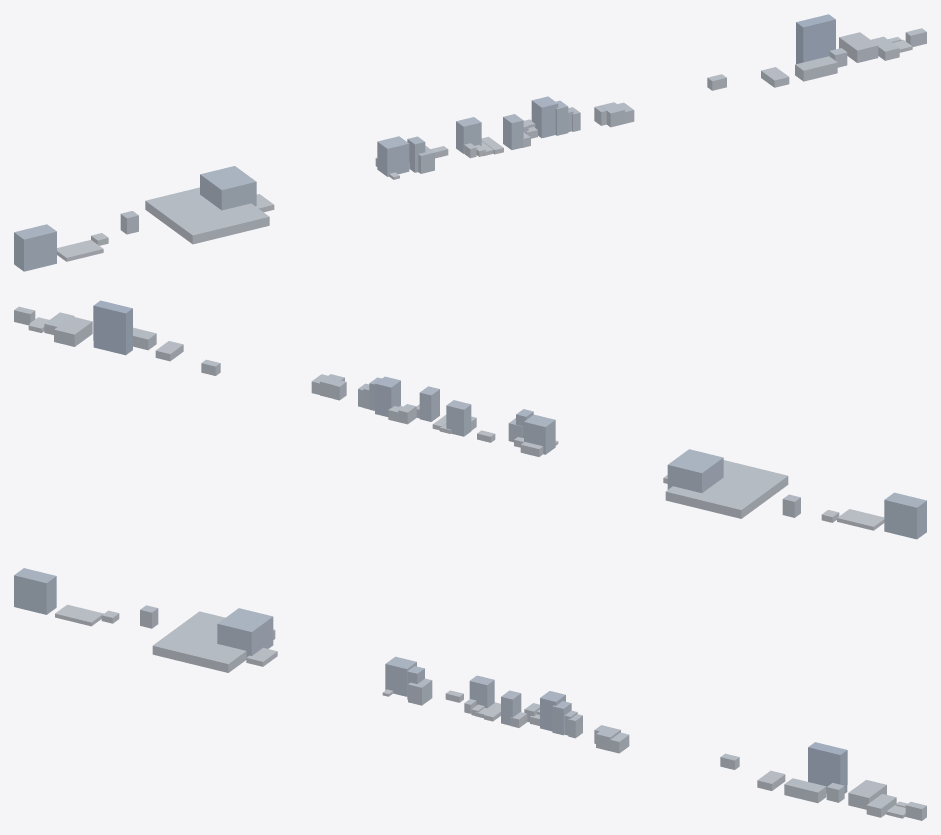
The picture shows the model from 3 angles, top to bottom: view 1: azimuth 30°, elevation 25°; view 2: azimuth 150°, elevation 25°; view 3: azimuth 330°, elevation 25°; orthographic projection.
Size of the model in its own units: 1070 by 47.51 by 96.66.
